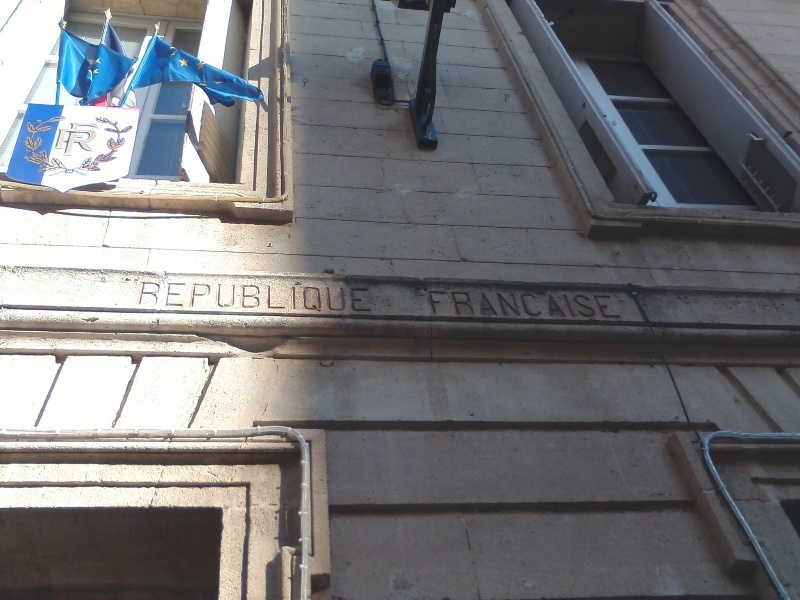text: (65, 121, 80, 158), (81, 121, 96, 158), (145, 281, 160, 313), (161, 281, 176, 313), (177, 281, 192, 313), (193, 281, 208, 313), (209, 281, 224, 313), (225, 281, 240, 313), (241, 281, 256, 313), (257, 281, 272, 313), (273, 281, 288, 313), (289, 281, 304, 313), (305, 281, 320, 313), (321, 281, 336, 313), (337, 281, 352, 313), (353, 281, 368, 313), (433, 290, 448, 318), (449, 290, 464, 318), (465, 290, 480, 318), (481, 290, 496, 318), (497, 290, 512, 318), (513, 290, 528, 318), (529, 290, 544, 318), (545, 290, 560, 318), (561, 290, 576, 318), (577, 290, 592, 318), (593, 290, 608, 318), (609, 290, 623, 318), (369, 281, 375, 313), (426, 290, 432, 318), (60, 121, 64, 158), (141, 281, 144, 313), (97, 121, 99, 158)
